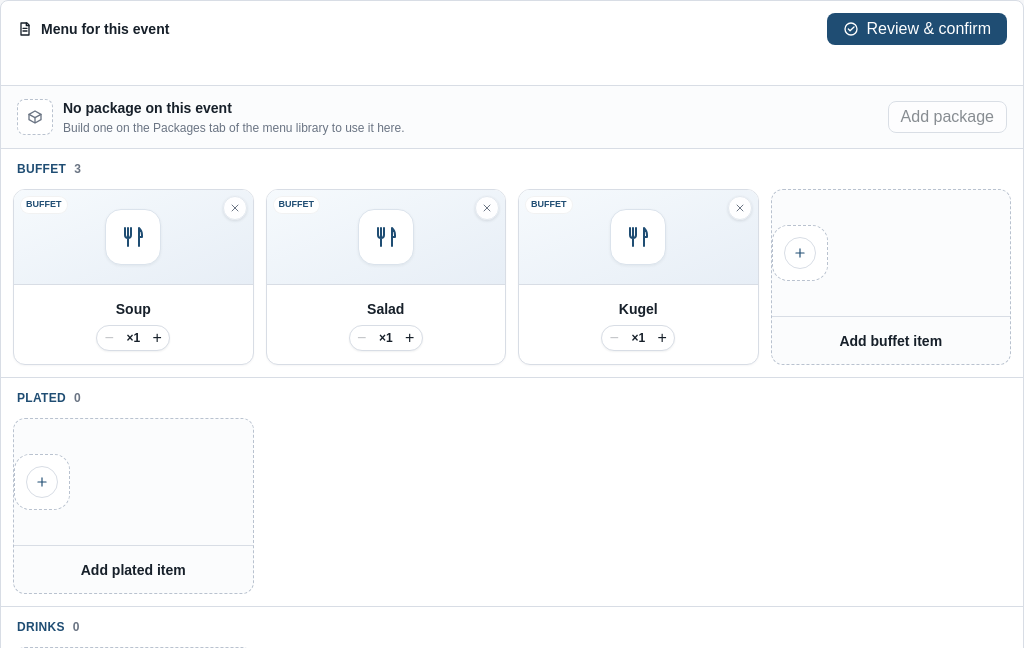
Test: event menu edits made faster than the server answers › puts every dish in the burst back when a save is refused
The width and height of the screenshot is (1024, 648).
Click the button named "Remove Soup".
click(234, 208)  # box [222,196,246,220]
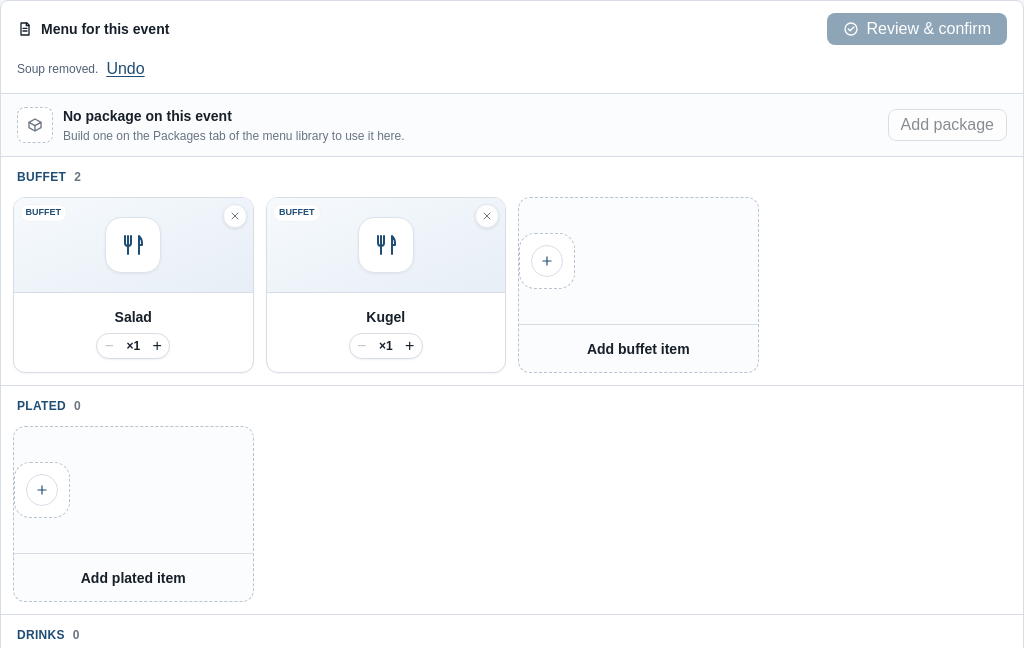
Click the button named "Remove Salad".
click(234, 216)  # box [222,204,246,228]
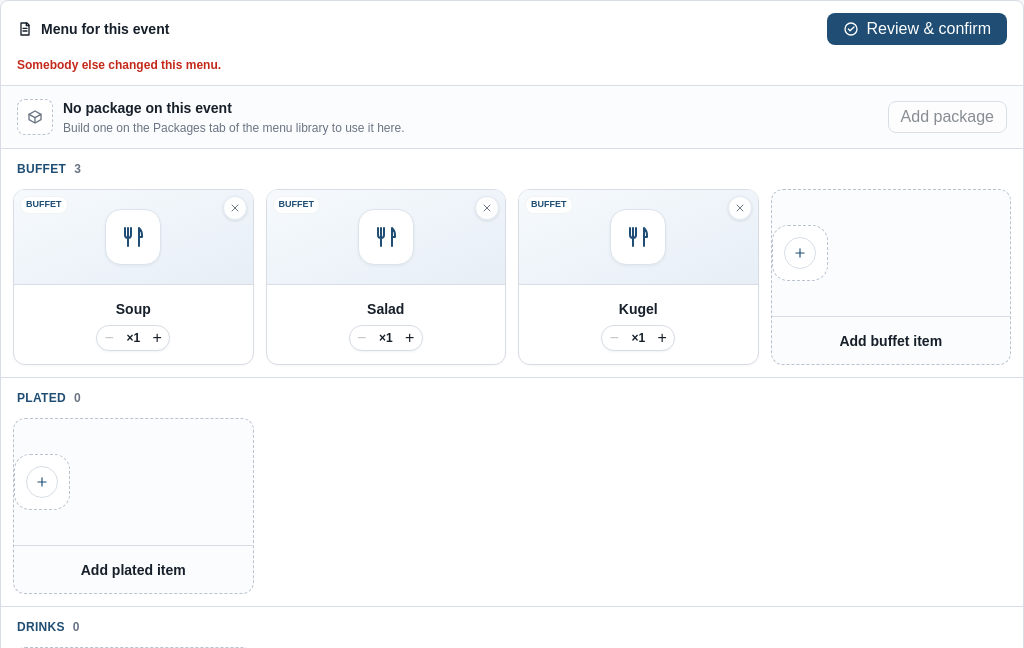
Expected: the button named "Remove Salad" is shown, [475,196,499,220]
Now the message reads "Somebody else changed this menu.", box [17,58,221,72]
Now the button named "Remove Soup" is shown, box [222,196,246,220]
